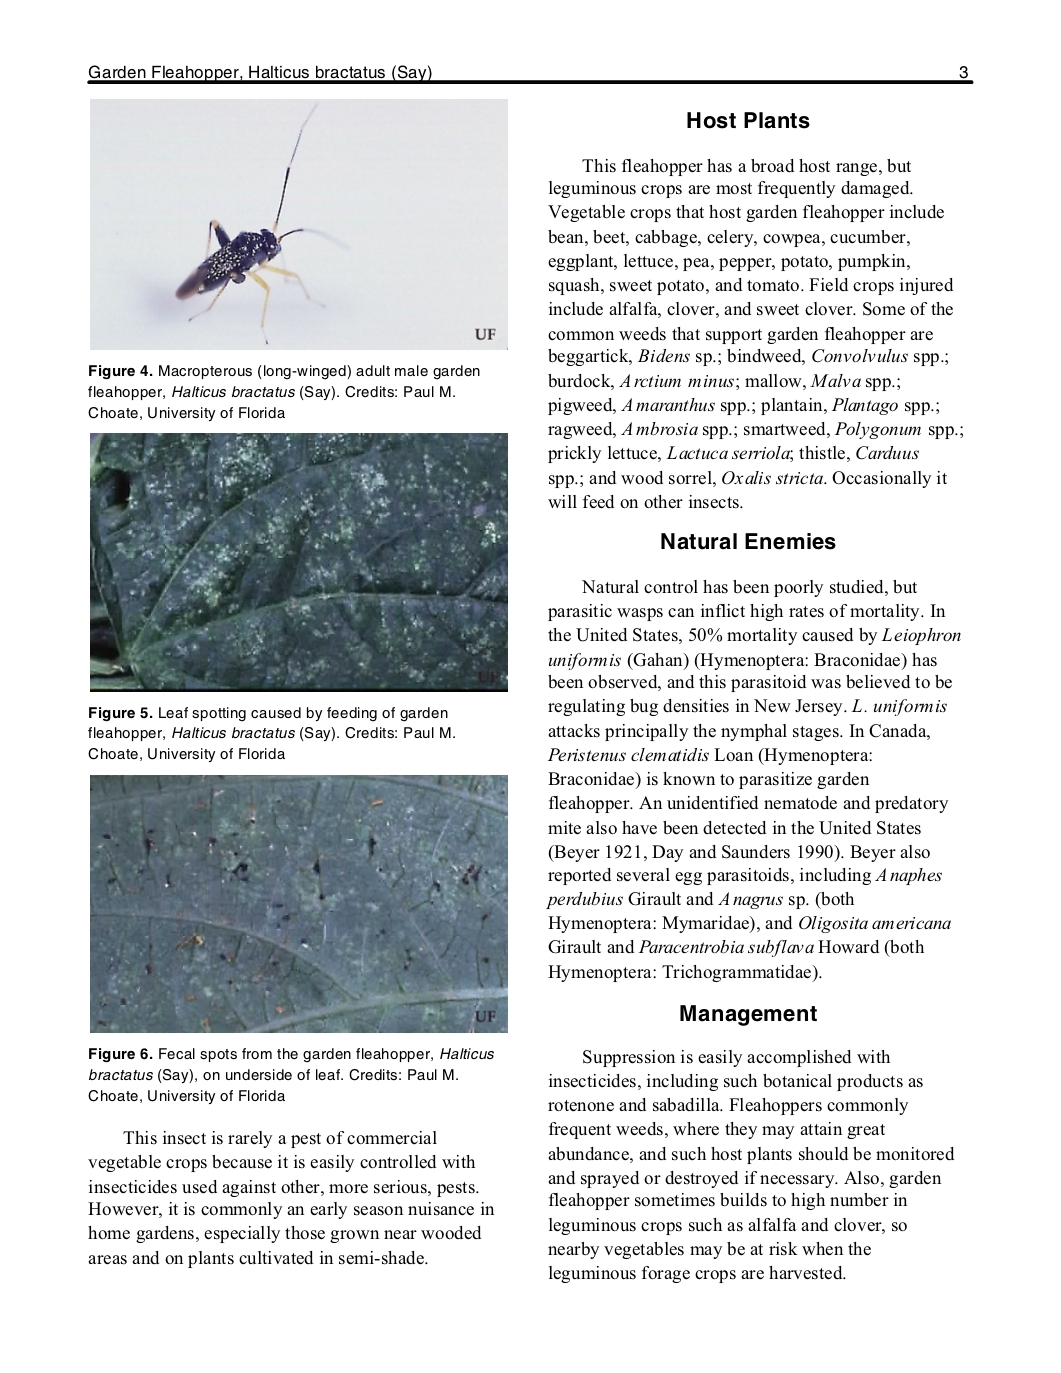figure: (90, 432, 507, 692), (90, 775, 507, 1033), (90, 98, 507, 350)
